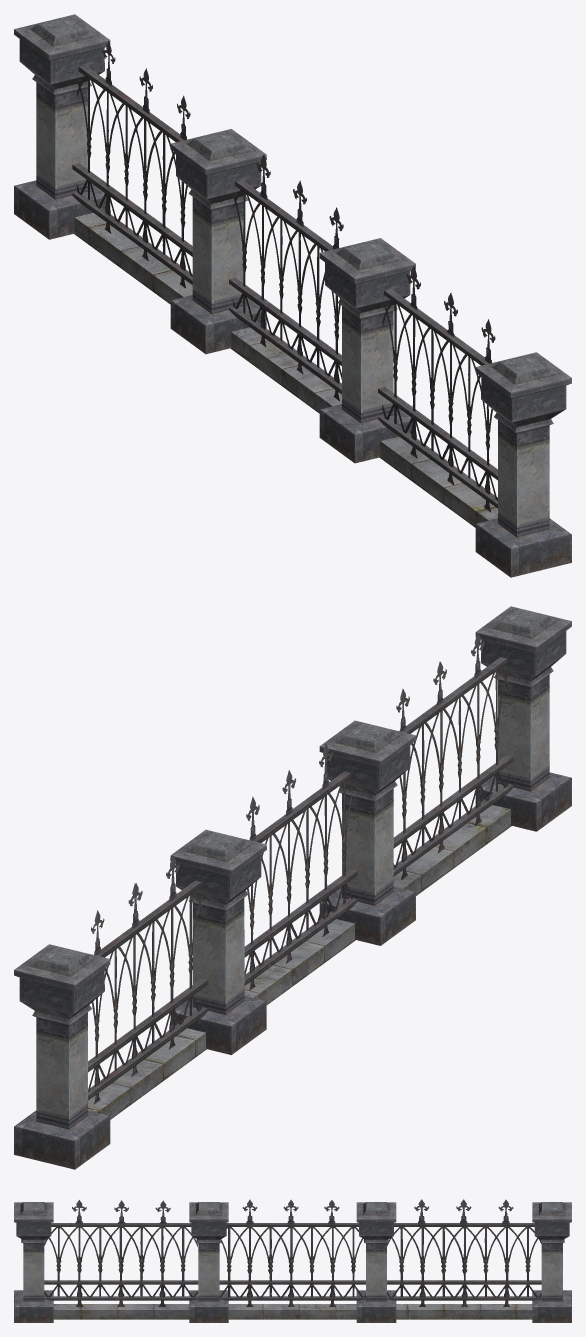
Rendered from bg_lut_lucastle_monument04_sm_artree.FBX.
The picture shows the model from 3 angles, top to bottom: view 1: azimuth 30°, elevation 25°; view 2: azimuth 150°, elevation 25°; view 3: azimuth 270°, elevation 25°; orthographic projection. The views are drawn at different scales.
Visible parts, largest first — view 1: bg_lut_lucastle_monument04_sm_artree; view 2: bg_lut_lucastle_monument04_sm_artree; view 3: bg_lut_lucastle_monument04_sm_artree.
Boxes of the visible parts, bbox=[...] form: bg_lut_lucastle_monument04_sm_artree: bbox=[14, 14, 571, 577]; bg_lut_lucastle_monument04_sm_artree: bbox=[14, 606, 571, 1169]; bg_lut_lucastle_monument04_sm_artree: bbox=[14, 1199, 571, 1322].
Size of the model in its own units: 27.99 by 92.41 by 394.
